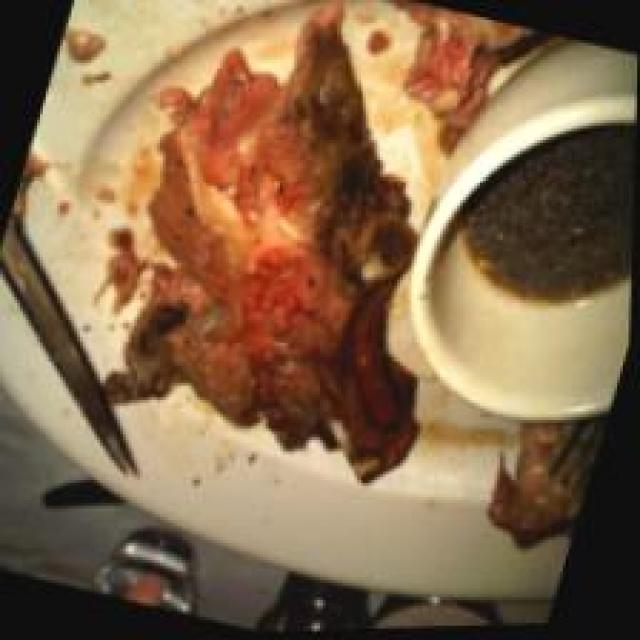Rib: (93, 37, 458, 494)
